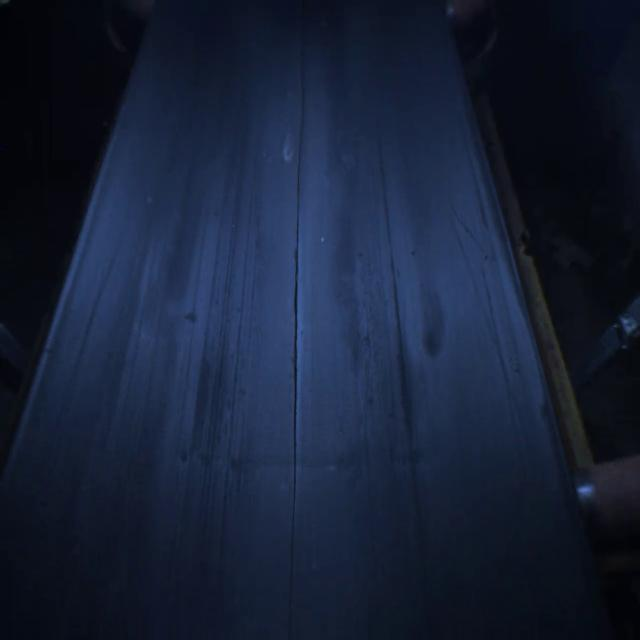Tear: (283, 35, 311, 592)
